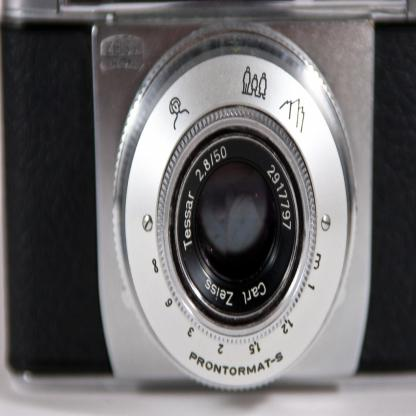Camera: (1, 1, 416, 396)
